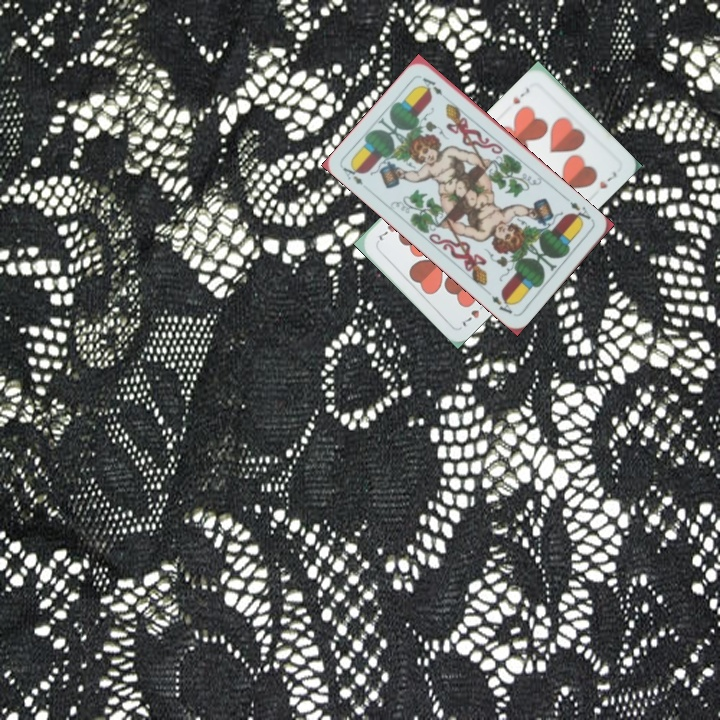EA: (565, 197, 596, 226), (338, 160, 366, 188)
H7: (458, 298, 490, 330), (509, 83, 532, 107)
